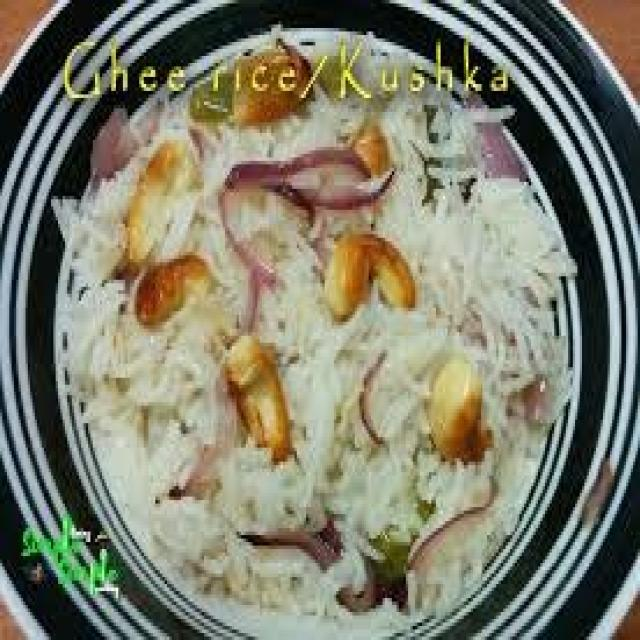nei satham: (55, 96, 572, 624)
